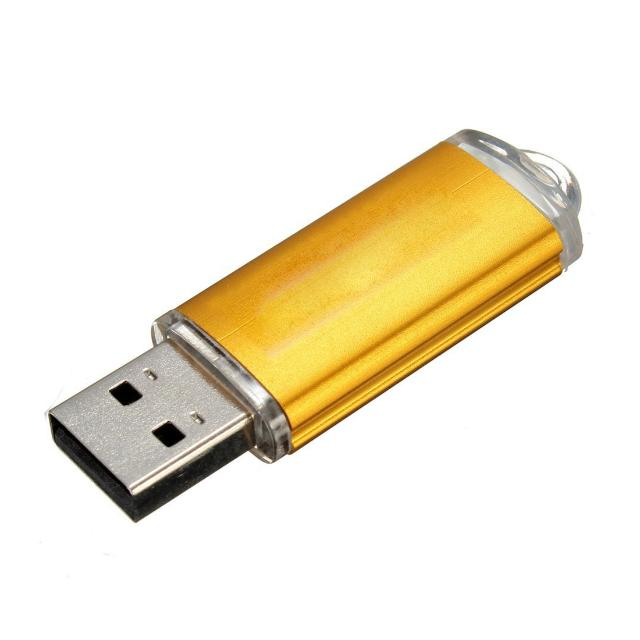USB-Flash-Drive: (44, 118, 586, 546)
